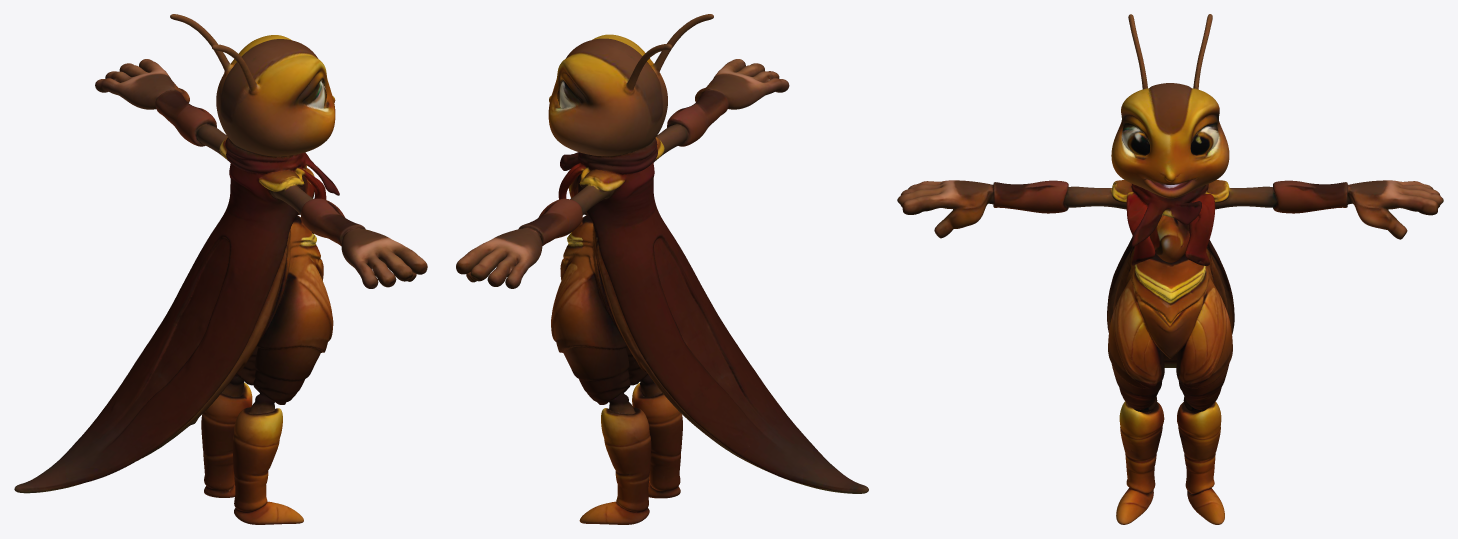
Rendered from DeMen.fbx.
3 renders of one model, left to right at view 1: azimuth 30°, elevation 25°; view 2: azimuth 150°, elevation 25°; view 3: azimuth 270°, elevation 25°, orthographic. The views are drawn at different scales.
Parts seen in each view (by area): view 1: tripo_node_277d1d5d; view 2: tripo_node_277d1d5d; view 3: tripo_node_277d1d5d.
Part boxes in pixels (<box>): tripo_node_277d1d5d: <box>14,14,427,524</box>; tripo_node_277d1d5d: <box>456,14,868,524</box>; tripo_node_277d1d5d: <box>897,14,1443,524</box>.
Bounding box in the file's own units: 0.6435 × 0.9532 × 1.
1 material, 1 textured.
